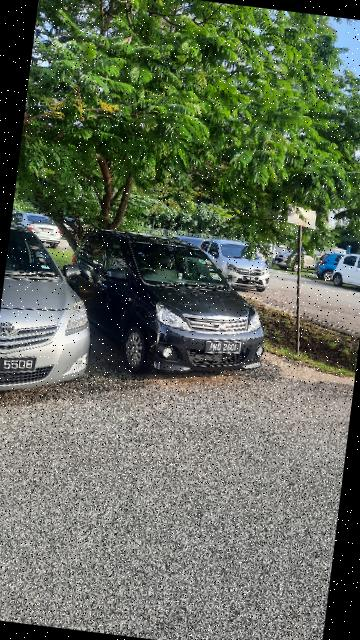License_Plate: (1, 350, 42, 379), (202, 336, 242, 358)
car: (56, 219, 284, 390), (1, 214, 106, 409)
